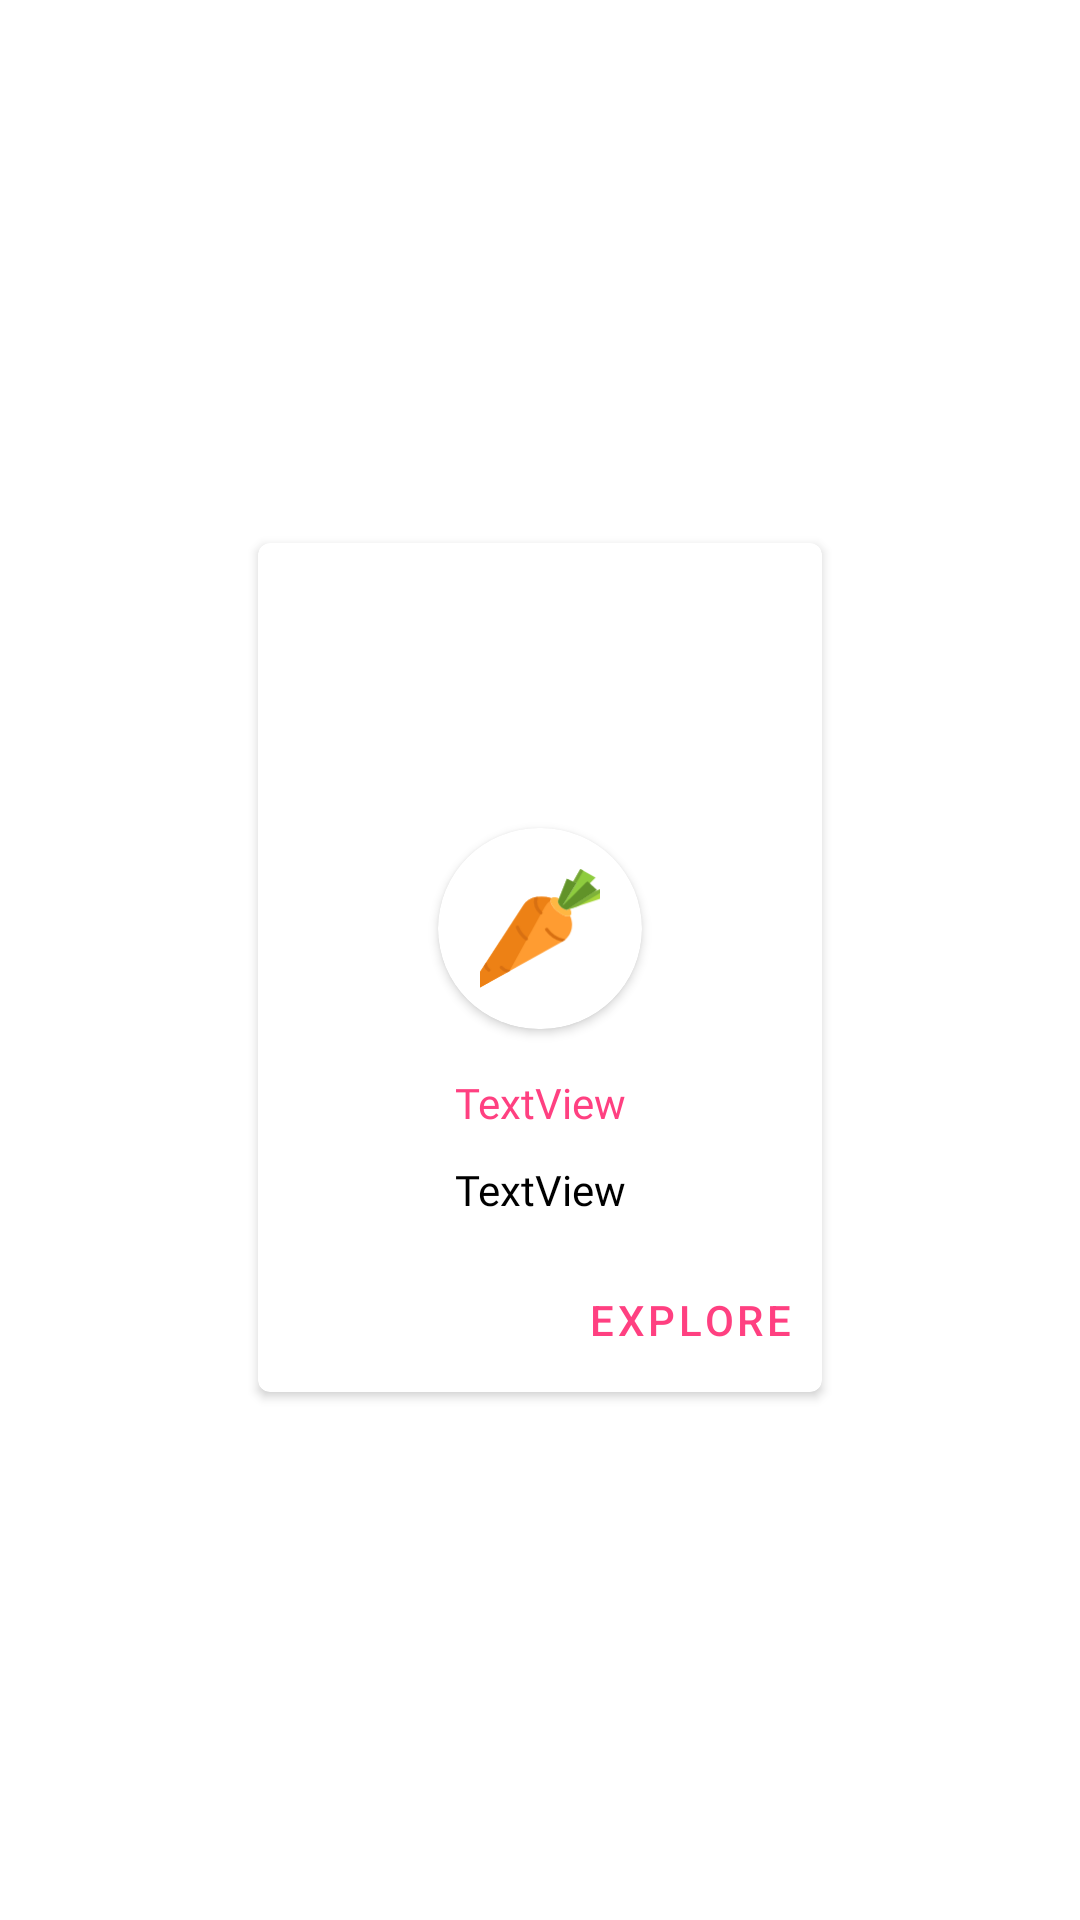

Icons on this 1080 × 1920 Android screen, each with the point to tap as (x=x, y=y):
carrot: (x=540, y=928)
